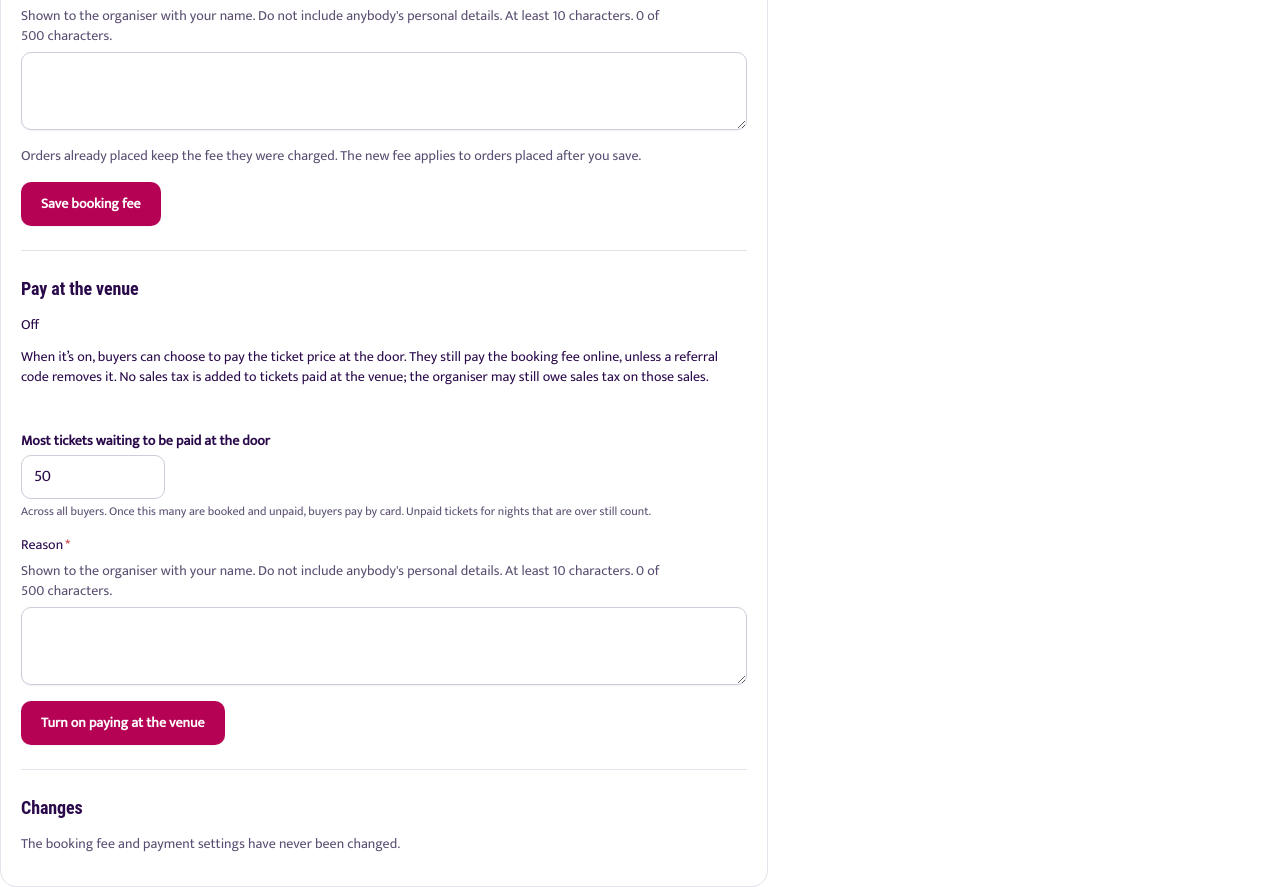
Test: paying at the venue › reads off as "Off", with what it would do, and offers to turn it on
(page scrolled)
Check: the text with test id "venue-status" reads "Off", box [21,313,39,336]
Check: the text "When it’s on, buyers can choose to pay the ticket price at the door. They still pay the booking fee online, unless a ref" is shown, box [21,345,718,388]
In the text box labelled "Reason*" below "Off": (384, 646) [21,607,747,685], type "Agreed with the organiser for this launch."
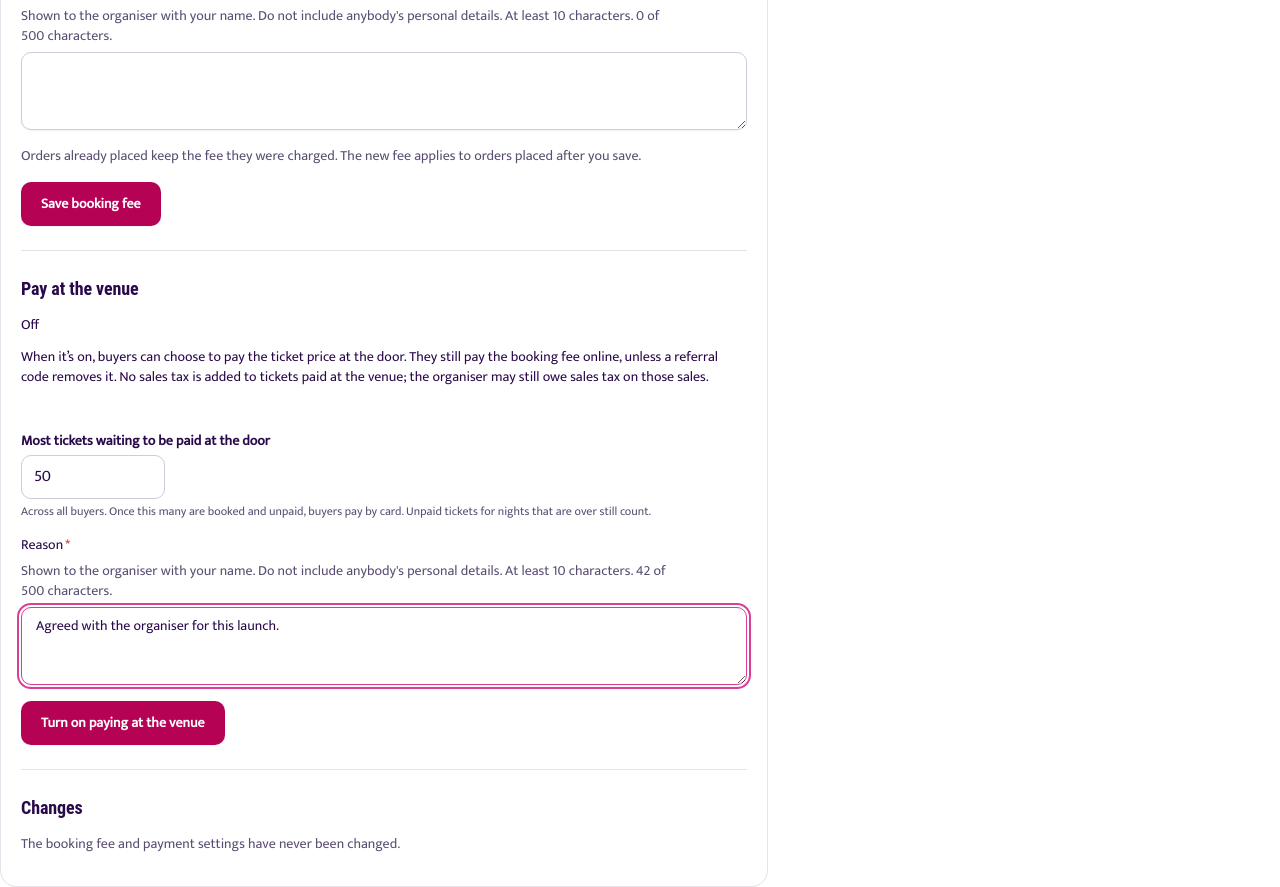
Click the button "Turn on paying at the venue": (123, 723) [21,701,225,745]
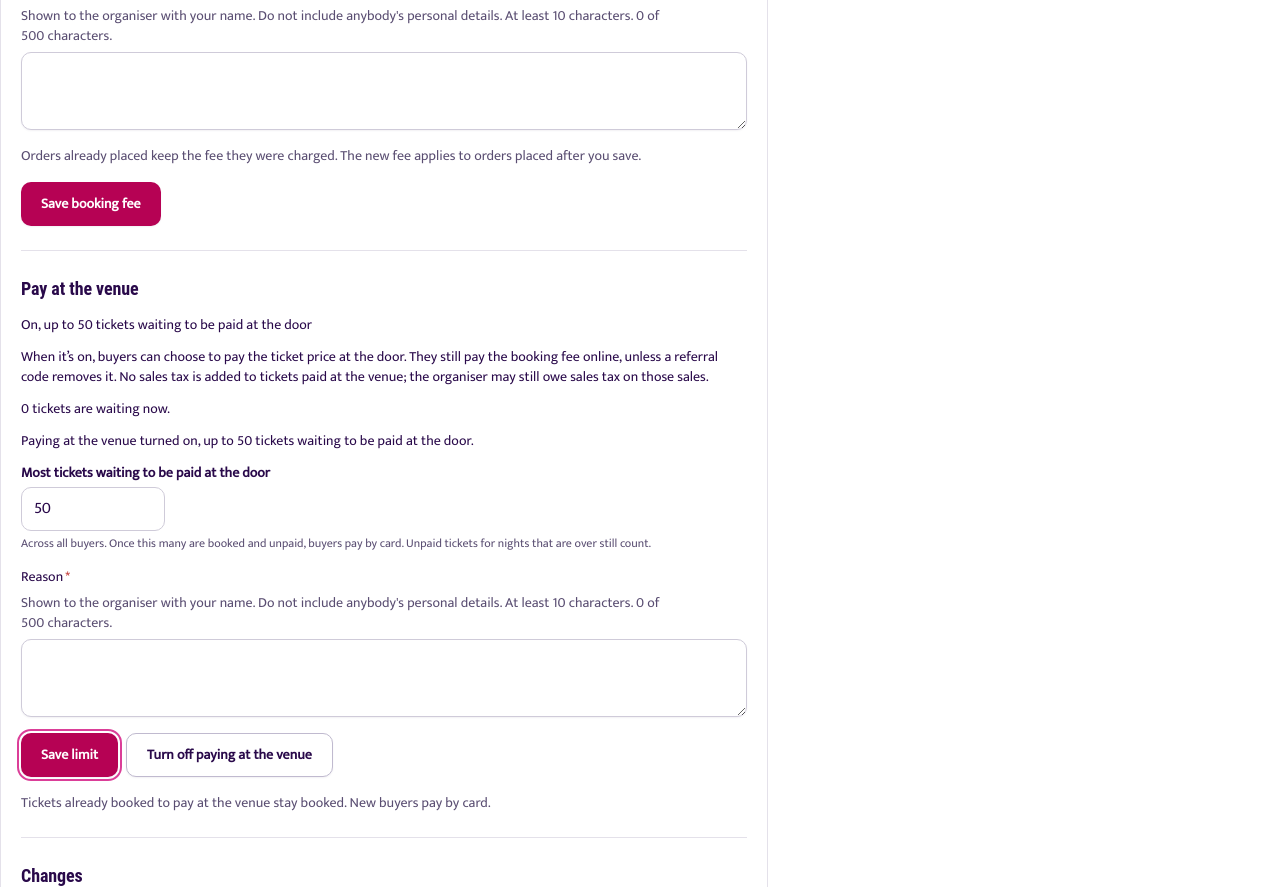
Check: the text "Paying at the venue turned on, up to 50 tickets waiting to be paid at the door." is shown, box [21,429,474,452]
